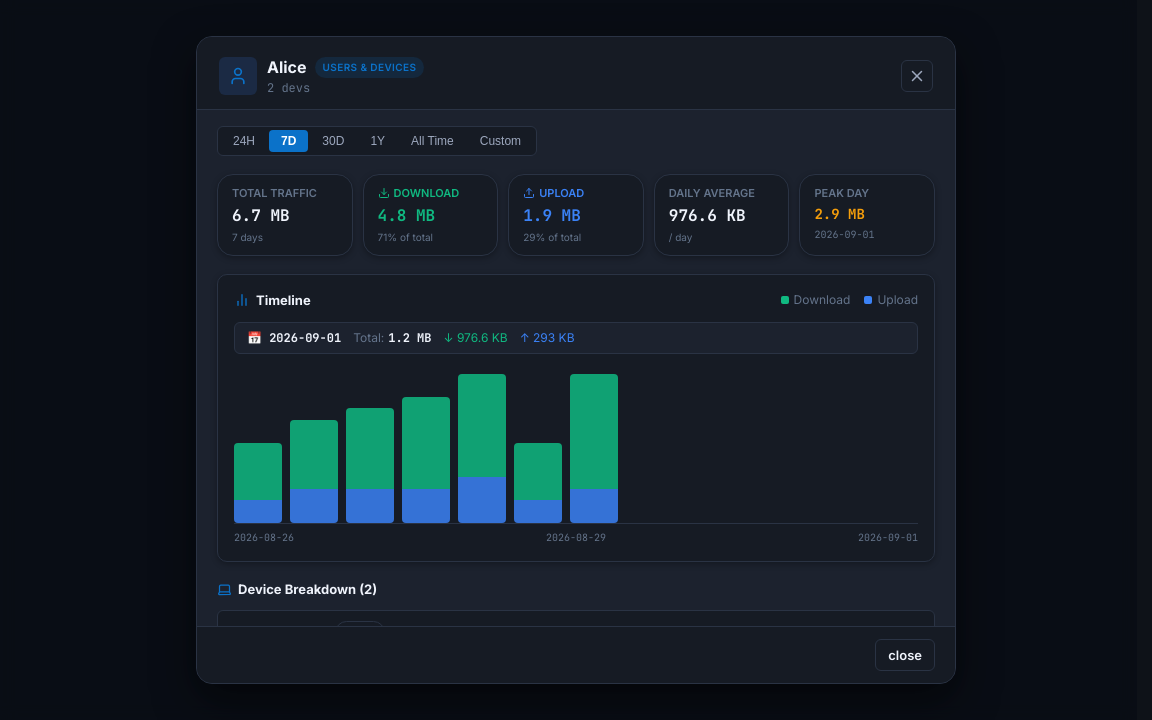
TrafficHistoryModal component › renders the 24H view as a half-hour timeline with HH:MM labels
This screenshot has width=1152, height=720.
What coordinates should you click on to do the following:
click the button "24H"
I would click on:
 (244, 141)
Its box is [221,130,267,152].
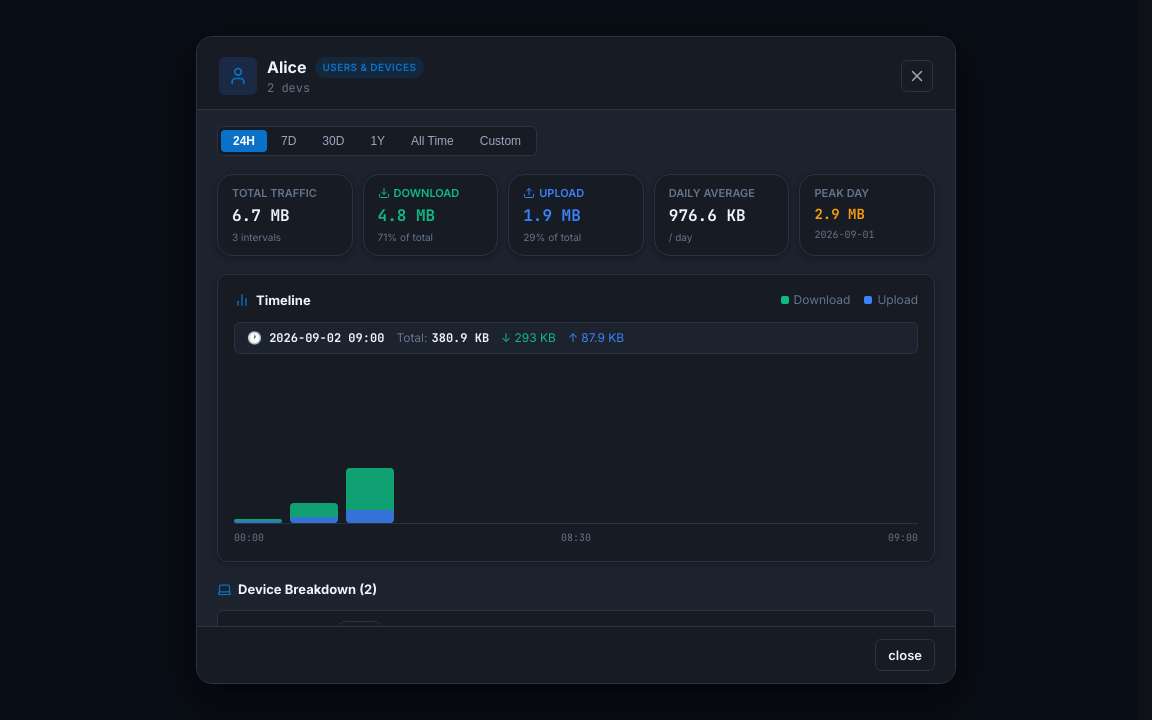
Check: the text "3 intervals" is shown, box [232,230,281,242]
